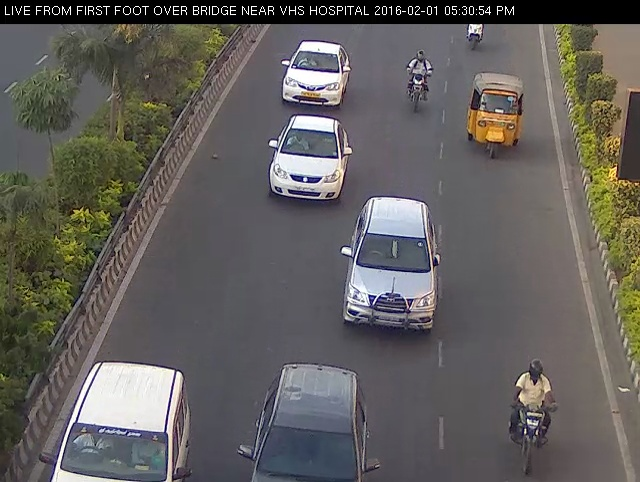Car: (34, 354, 203, 481), (327, 190, 458, 343), (238, 360, 389, 482), (260, 113, 366, 217), (260, 27, 366, 118), (457, 61, 535, 169)
Person: (498, 346, 566, 479), (393, 39, 439, 126), (456, 17, 489, 49)
